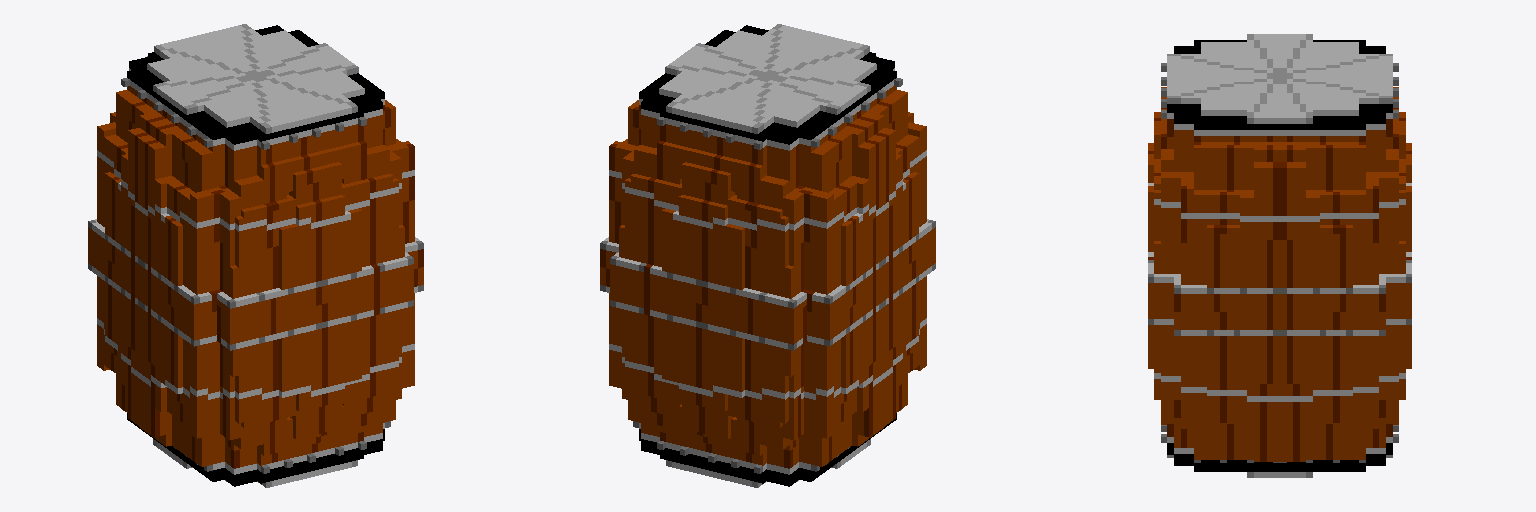
3 views of the same model, side by side, from view 1: azimuth 30°, elevation 25°; view 2: azimuth 150°, elevation 25°; view 3: azimuth 270°, elevation 25° (orthographic).
Parts seen in each view (by area): view 1: object 1; view 2: object 1; view 3: object 1.
Part boxes in pixels (x1,y1,x2,y2): object 1: (88, 24, 423, 487); object 1: (600, 24, 935, 487); object 1: (1148, 34, 1411, 477).
Size of the model in its own units: 4 by 6 by 4.
Materials: 1 (1 with a texture image).